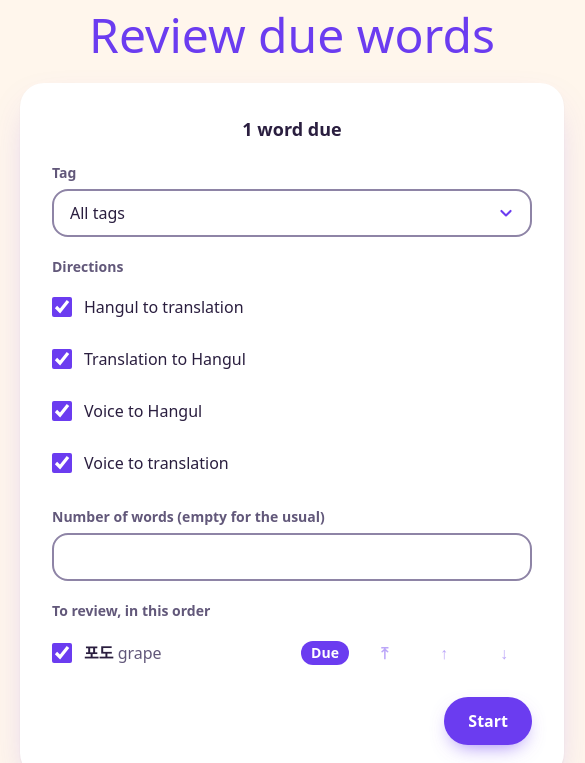
Test: unticking both voice directions sends only the written ones, with the tag and size chosen
Click the checkbox labelled "Voice to Hangul" at (62, 411), box [52,401,72,421]
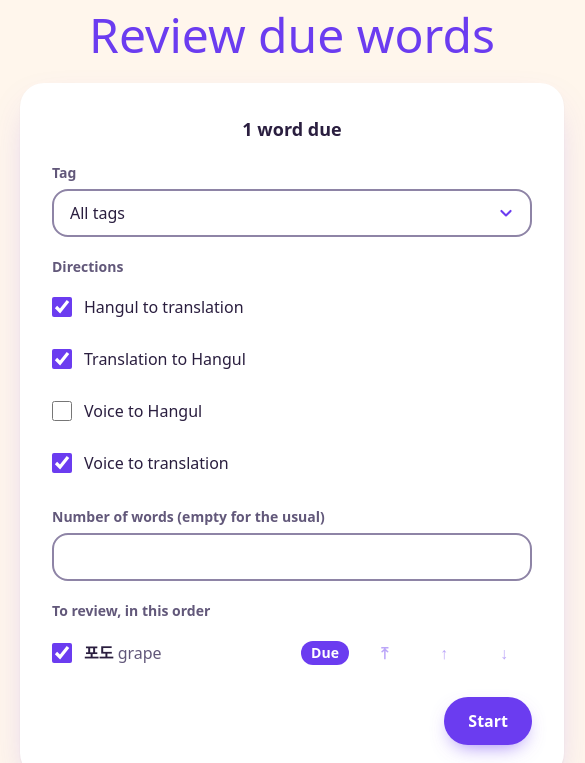
Click the checkbox labelled "Voice to translation" at (62, 463), box [52,453,72,473]
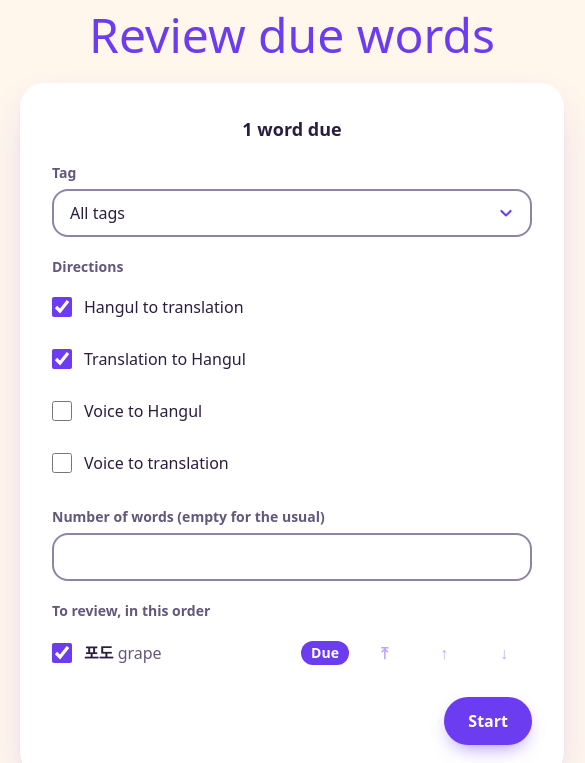
Select "food" in the dropdown labelled "Tag" at (292, 213), box [52,189,532,237]
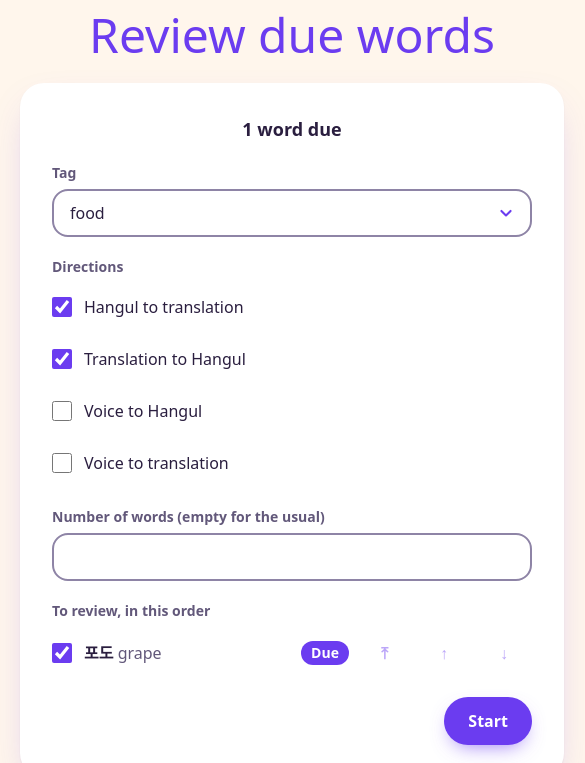
Type "3" into the number field at (292, 557), box [52,533,532,581]
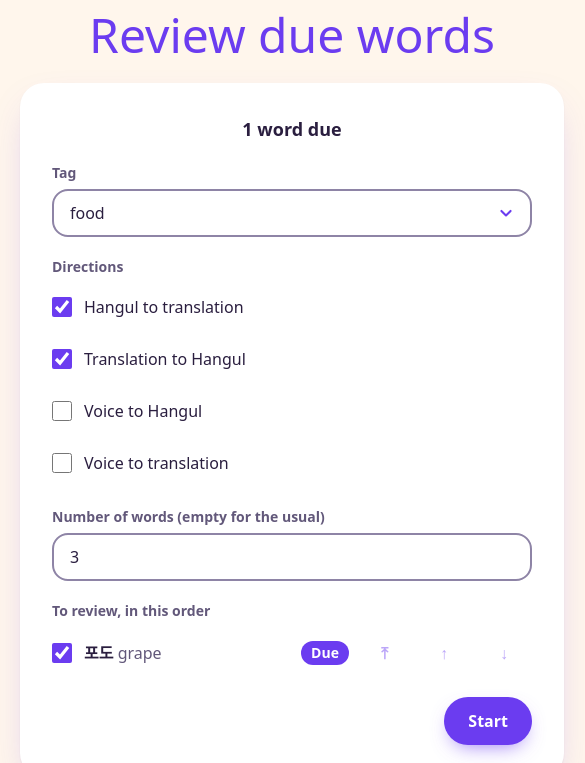
Click the button "Start" at (488, 721), box [444,697,532,745]
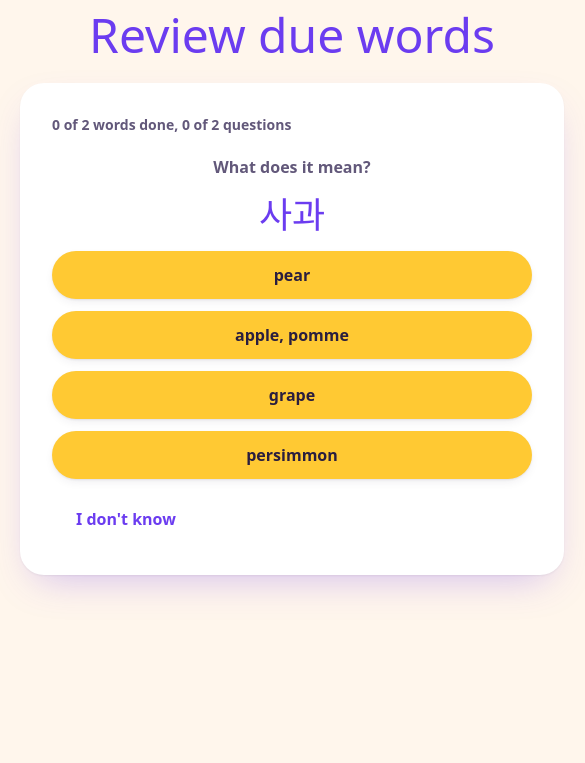
Expected: the text "What does it mean?" is shown, [213,156,371,178]
